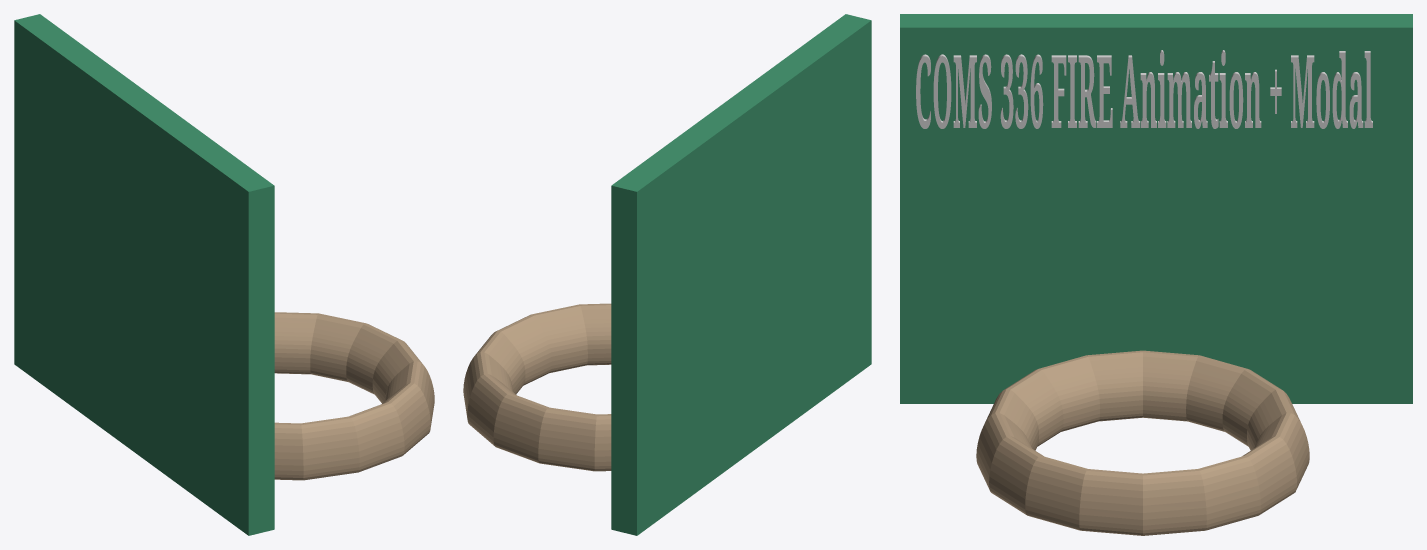
The model's file is firepit3.glb.
3 renders of one model, left to right at view 1: azimuth 30°, elevation 25°; view 2: azimuth 150°, elevation 25°; view 3: azimuth 270°, elevation 25°, orthographic. The views are drawn at different scales.
Parts seen in each view (by area): view 1: Mesh_Mesh_head_geo.001_lambert2SG.001; view 2: Mesh_Mesh_head_geo.001_lambert2SG.001; view 3: Mesh_Mesh_head_geo.001_lambert2SG.001.
Part boxes in pixels (box(x1,y1,x2,y2)): Mesh_Mesh_head_geo.001_lambert2SG.001: box(14, 14, 434, 535); Mesh_Mesh_head_geo.001_lambert2SG.001: box(463, 14, 871, 535); Mesh_Mesh_head_geo.001_lambert2SG.001: box(900, 14, 1412, 535).
Size of the model in its own units: 28.75 by 34 by 42.
